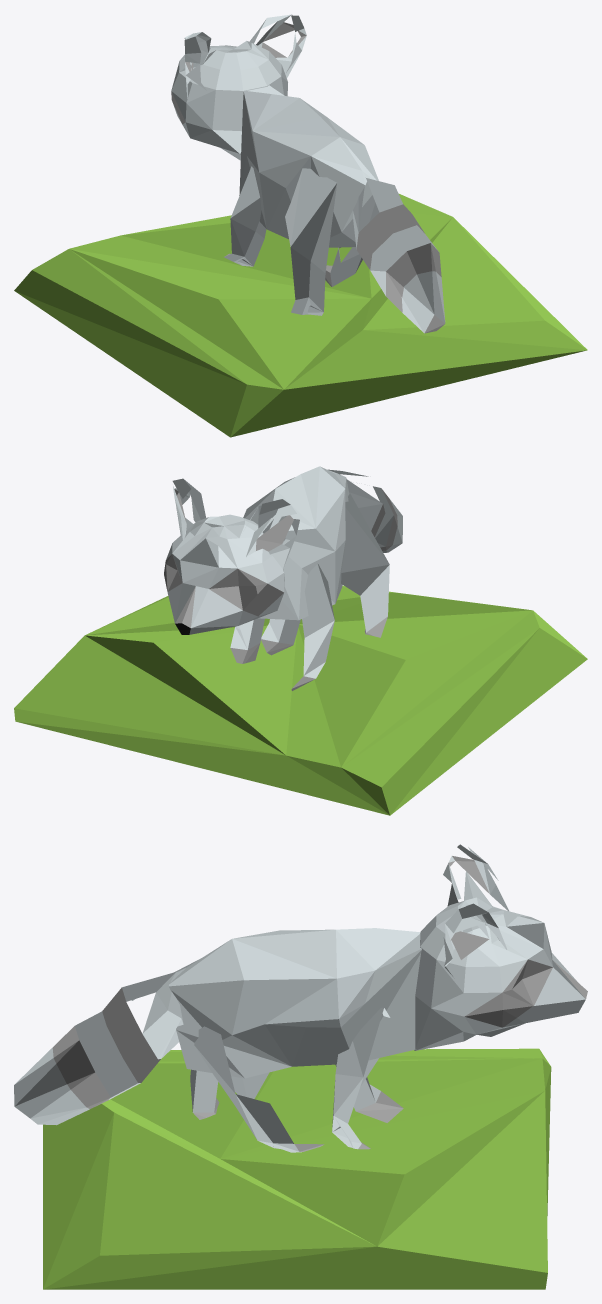
File: racoon-by-jarlan-perez-4dAvYh8cBE0.glb
The picture shows the model from 3 angles, top to bottom: view 1: azimuth 30°, elevation 25°; view 2: azimuth 150°, elevation 25°; view 3: azimuth 270°, elevation 25°; orthographic projection. The views are drawn at different scales.
Visible parts, largest first — view 1: Node; view 2: Node; view 3: Node.
Boxes of the visible parts, box(x1,y1,x2,y2) form: Node: box(14, 14, 587, 437); Node: box(14, 466, 587, 815); Node: box(14, 844, 587, 1289).
Size of the model in its own units: 0.5577 by 0.3566 by 0.6051.
